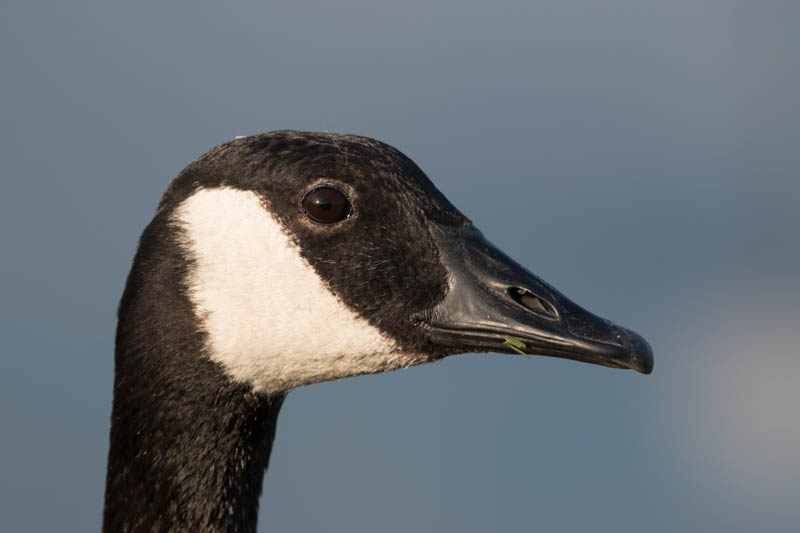goose-head: (114, 130, 655, 396)
